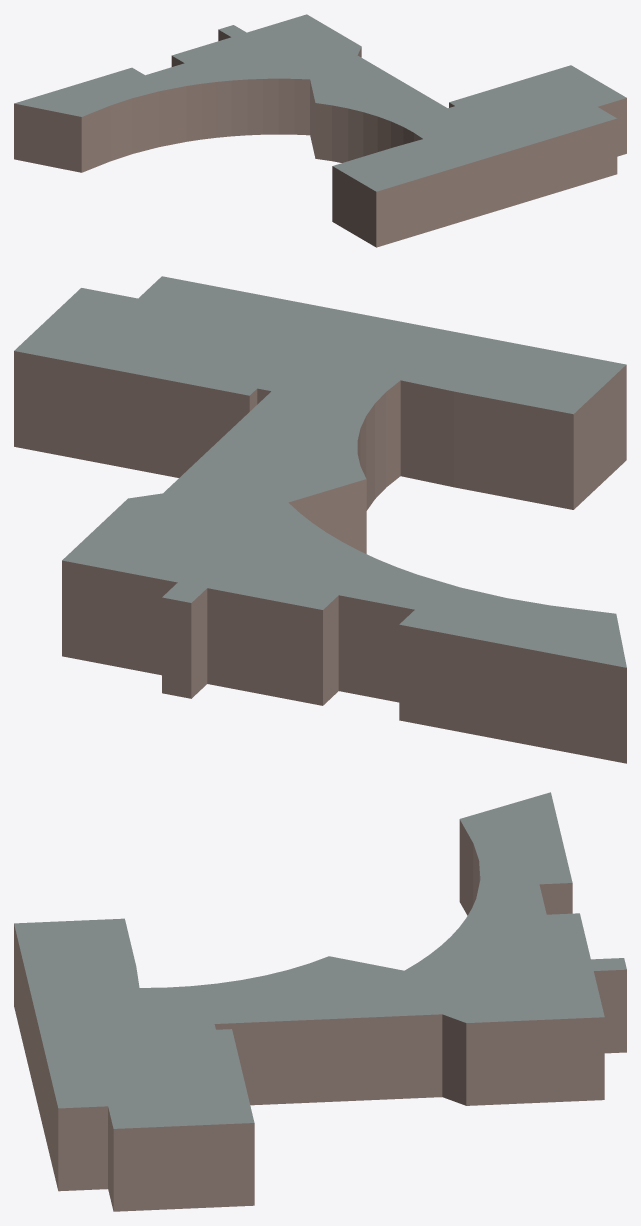
Rendered from context-1-0.gltf.
3 views of the same model, one above another, from view 1: azimuth 30°, elevation 25°; view 2: azimuth 150°, elevation 25°; view 3: azimuth 270°, elevation 25° (orthographic). The views are drawn at different scales.
Visible parts, largest first — view 1: context-1-0; view 2: context-1-0; view 3: context-1-0.
Boxes of the visible parts, box(x1,y1,x2,y2) form: context-1-0: box(14, 14, 626, 247); context-1-0: box(14, 276, 626, 763); context-1-0: box(14, 792, 626, 1211).
Size of the model in its own units: 112 by 12.8 by 85.9.
